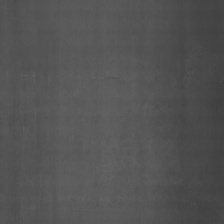inclusion: (151, 37, 205, 132)
